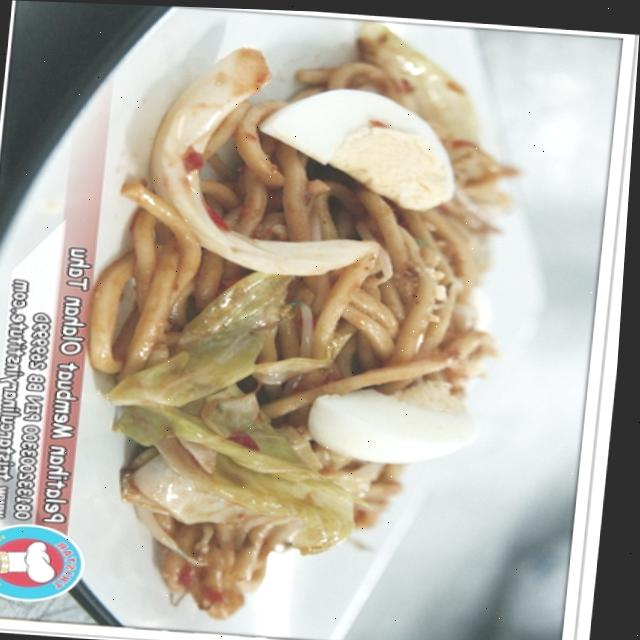面条主食: (4, 12, 557, 632)
